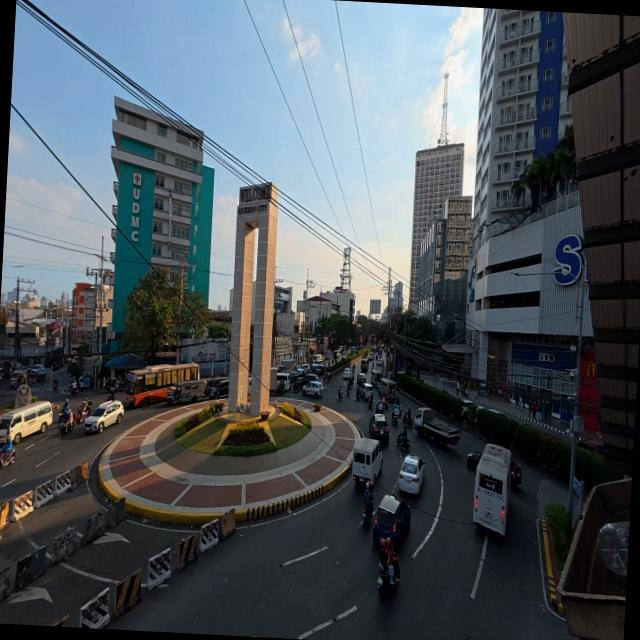car: (84, 400, 127, 436), (396, 456, 427, 498), (300, 378, 326, 398)
